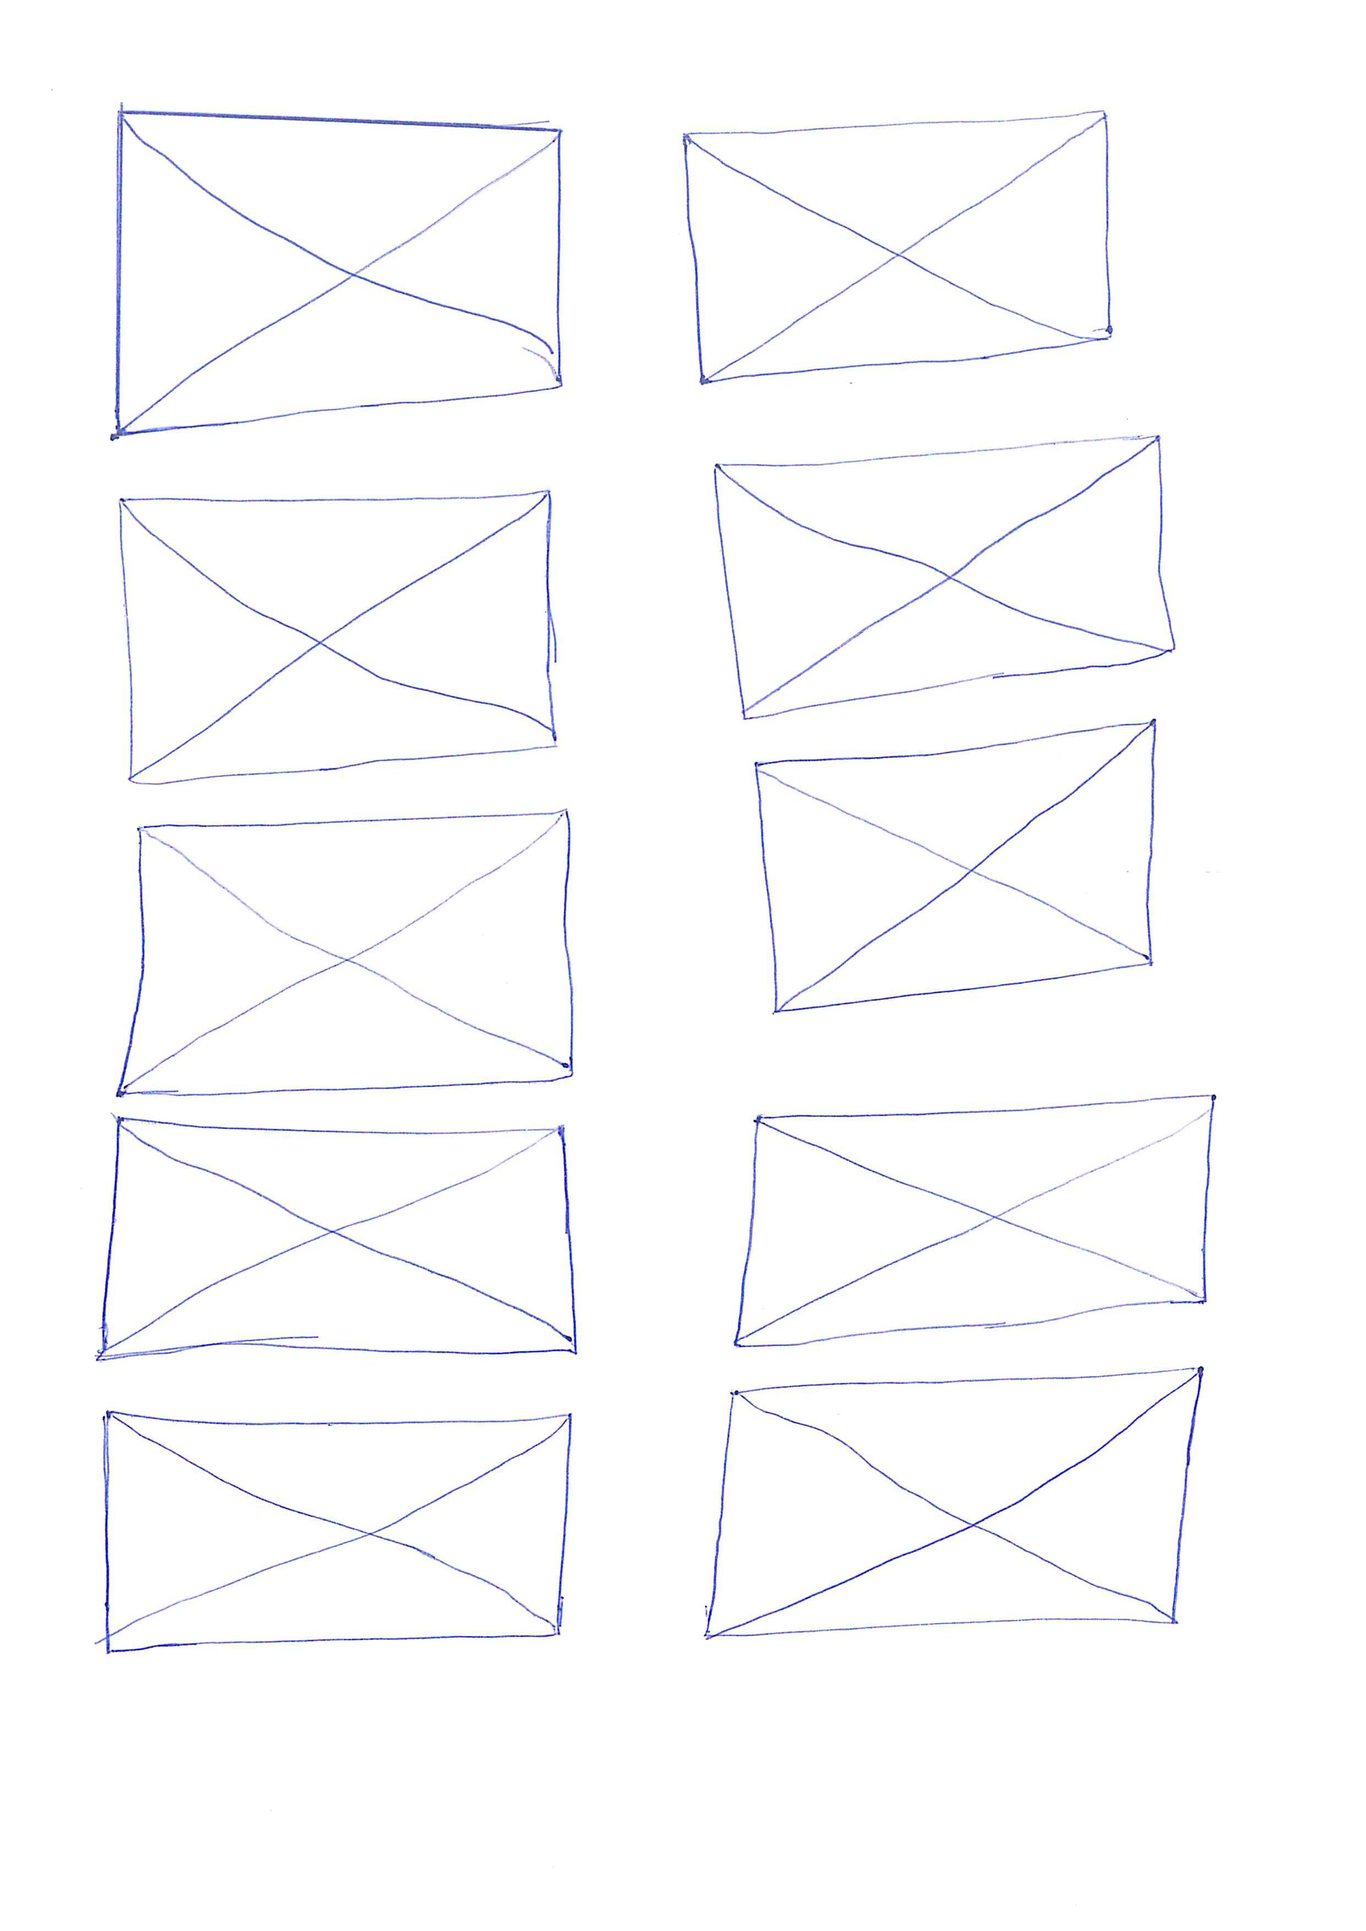Image: (109, 103, 569, 439), (701, 1362, 1206, 1643), (710, 429, 1175, 726), (112, 809, 580, 1102), (117, 486, 559, 791), (732, 1091, 1217, 1351), (89, 1110, 580, 1365), (750, 717, 1161, 1017), (682, 106, 1115, 386), (102, 1409, 577, 1656)
